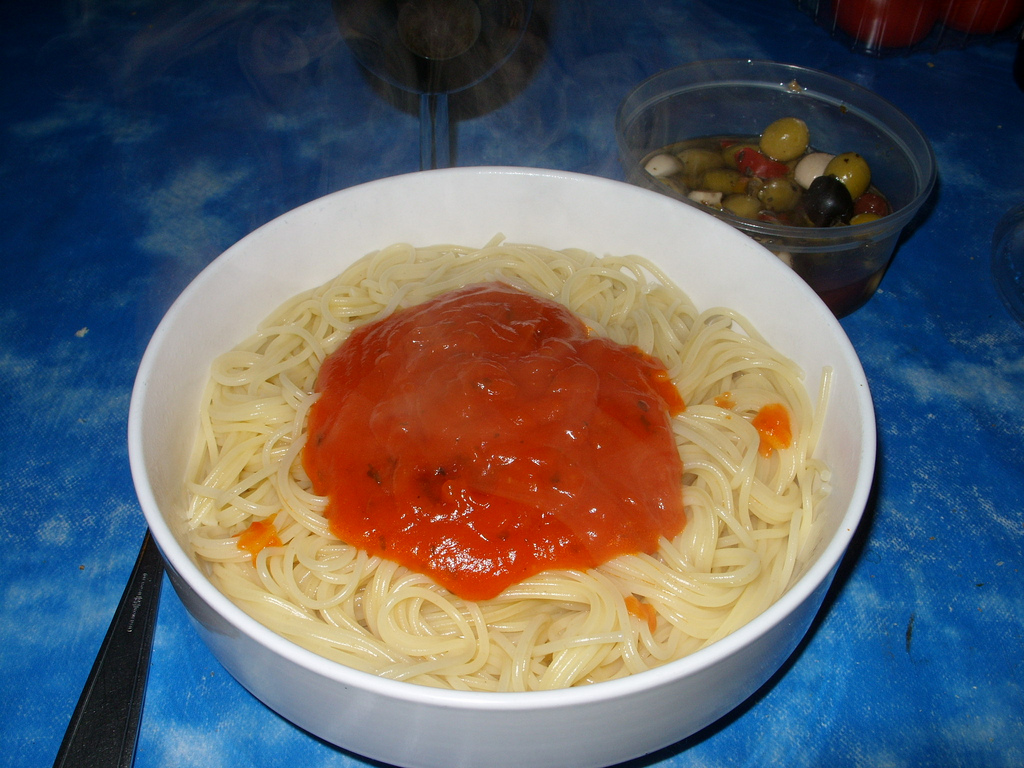plain spaghetti: (162, 250, 868, 706)
